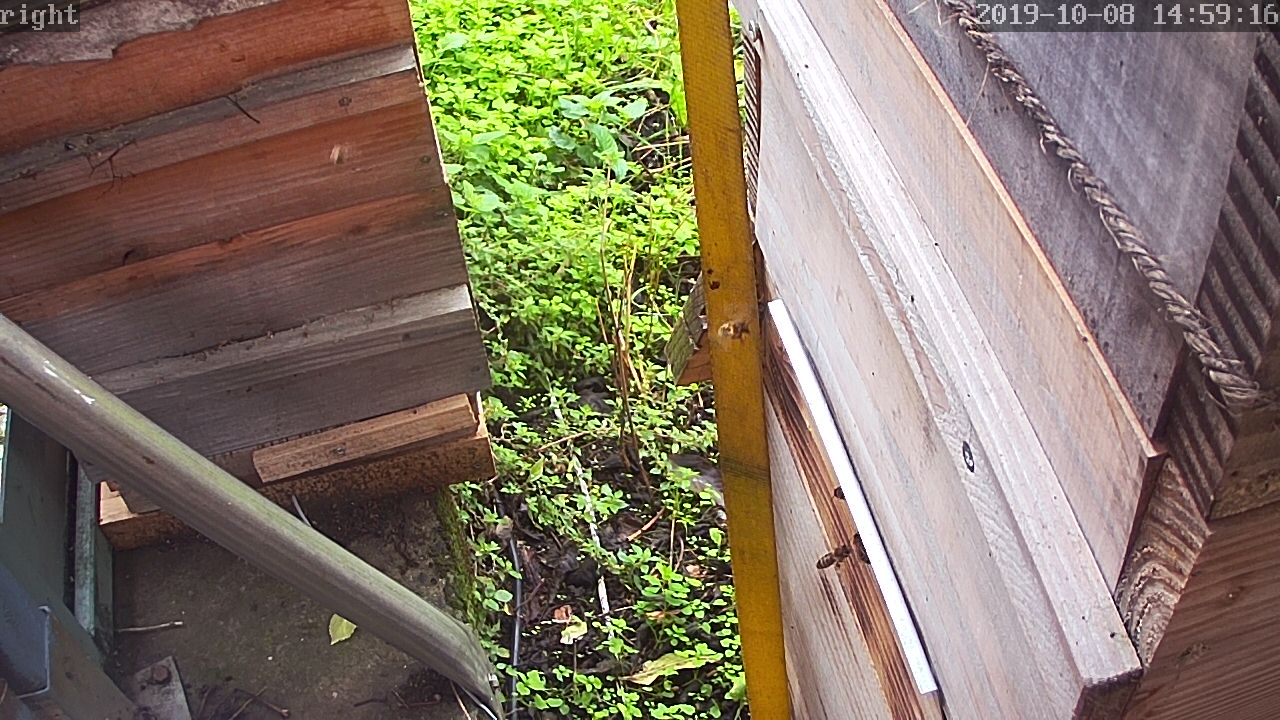bee: (1003, 99, 1057, 145), (817, 533, 861, 567)
hornet: (531, 544, 591, 619), (589, 447, 652, 495)
